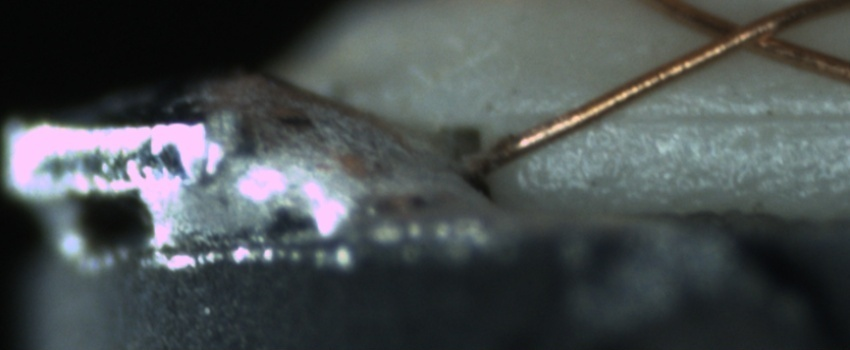CL: (683, 4, 805, 62)
DL: (542, 86, 849, 145)
